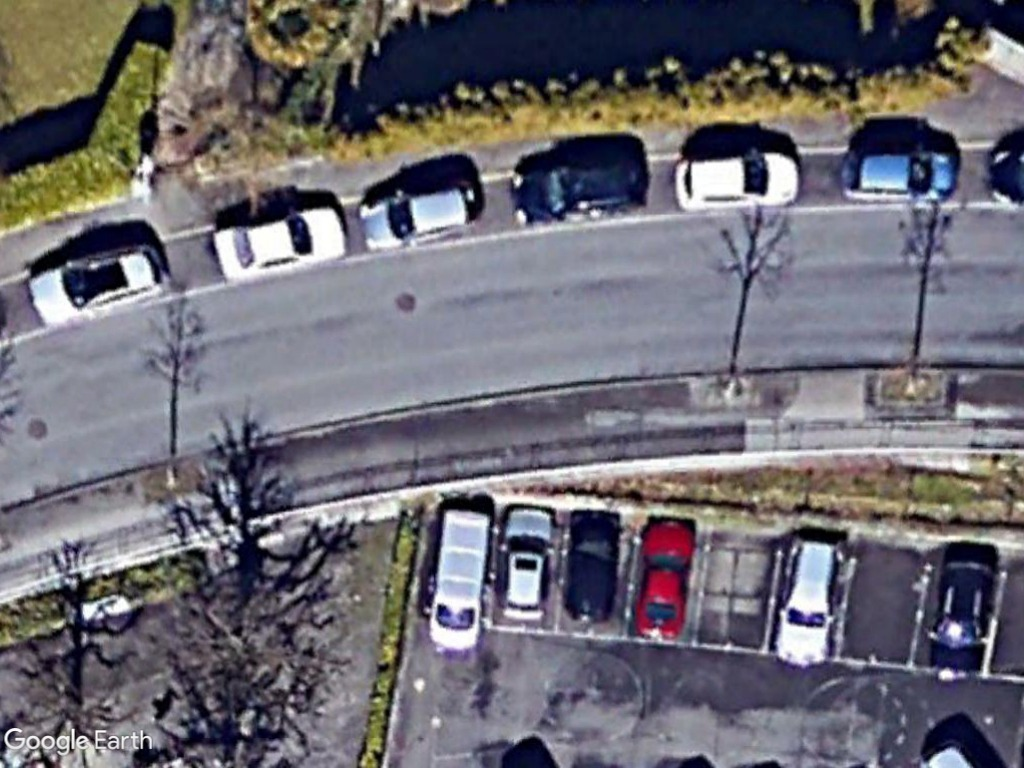car: (26, 236, 169, 334), (212, 202, 347, 283), (771, 534, 849, 668), (506, 155, 647, 229), (354, 174, 481, 254), (672, 147, 808, 215), (928, 556, 997, 686), (628, 518, 700, 641), (560, 505, 625, 627), (491, 500, 557, 619), (835, 147, 959, 206)
van: (425, 504, 493, 655)
